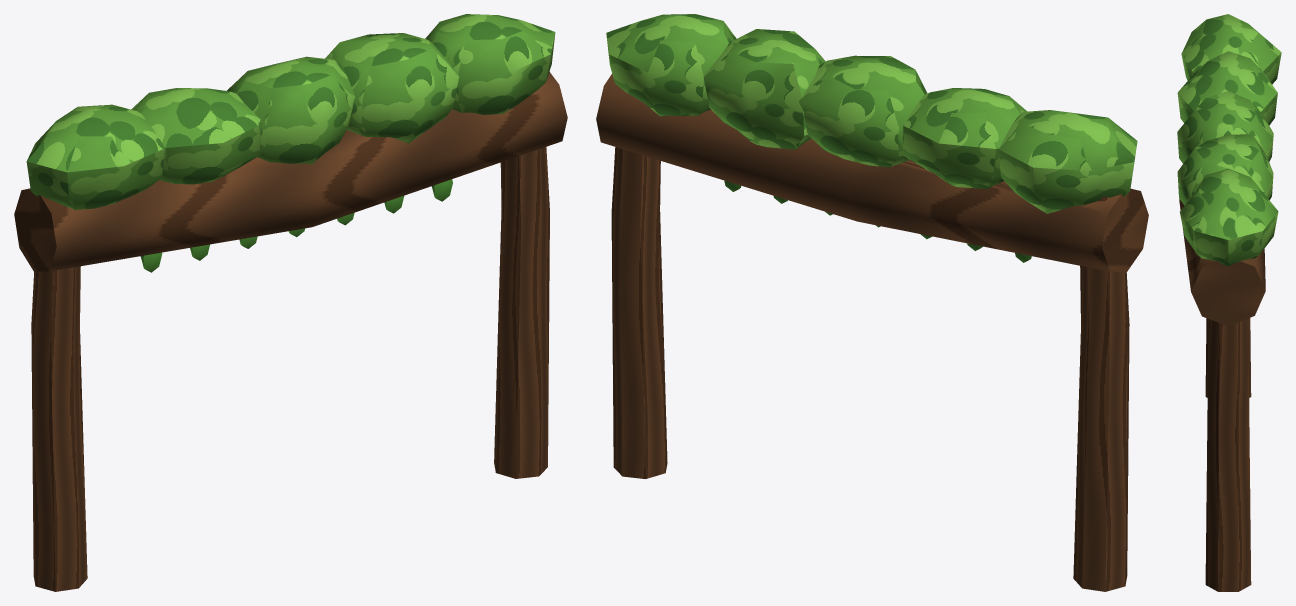
Rendered from prop_branch.glb.
3 views of the same model, side by side, from view 1: azimuth 30°, elevation 25°; view 2: azimuth 150°, elevation 25°; view 3: azimuth 270°, elevation 25° (orthographic). The views are drawn at different scales.
Parts seen in each view (by area): view 1: prop_branch; view 2: prop_branch; view 3: prop_branch.
Part boxes in pixels (box(x1,y1,x2,y2)): prop_branch: box(14, 14, 567, 591); prop_branch: box(596, 14, 1148, 591); prop_branch: box(1177, 14, 1281, 591).
Size of the model in its own units: 2.18 by 1.82 by 0.4466.
Materials: 1 (1 with a texture image).
